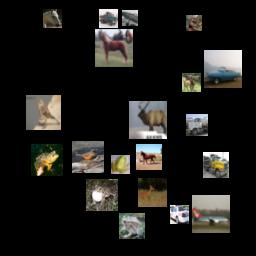airplane: (192, 195, 230, 233), (122, 10, 138, 26)
automobile: (204, 50, 242, 88), (170, 205, 189, 224)
bird: (26, 95, 61, 130), (72, 141, 104, 173)
deer: (129, 101, 167, 139), (138, 178, 167, 207), (182, 73, 201, 92)
frog: (86, 179, 118, 211), (31, 144, 63, 176), (119, 213, 145, 239), (111, 155, 130, 174), (186, 15, 202, 31)
truck: (203, 152, 229, 178), (186, 114, 208, 136), (99, 9, 118, 28)
